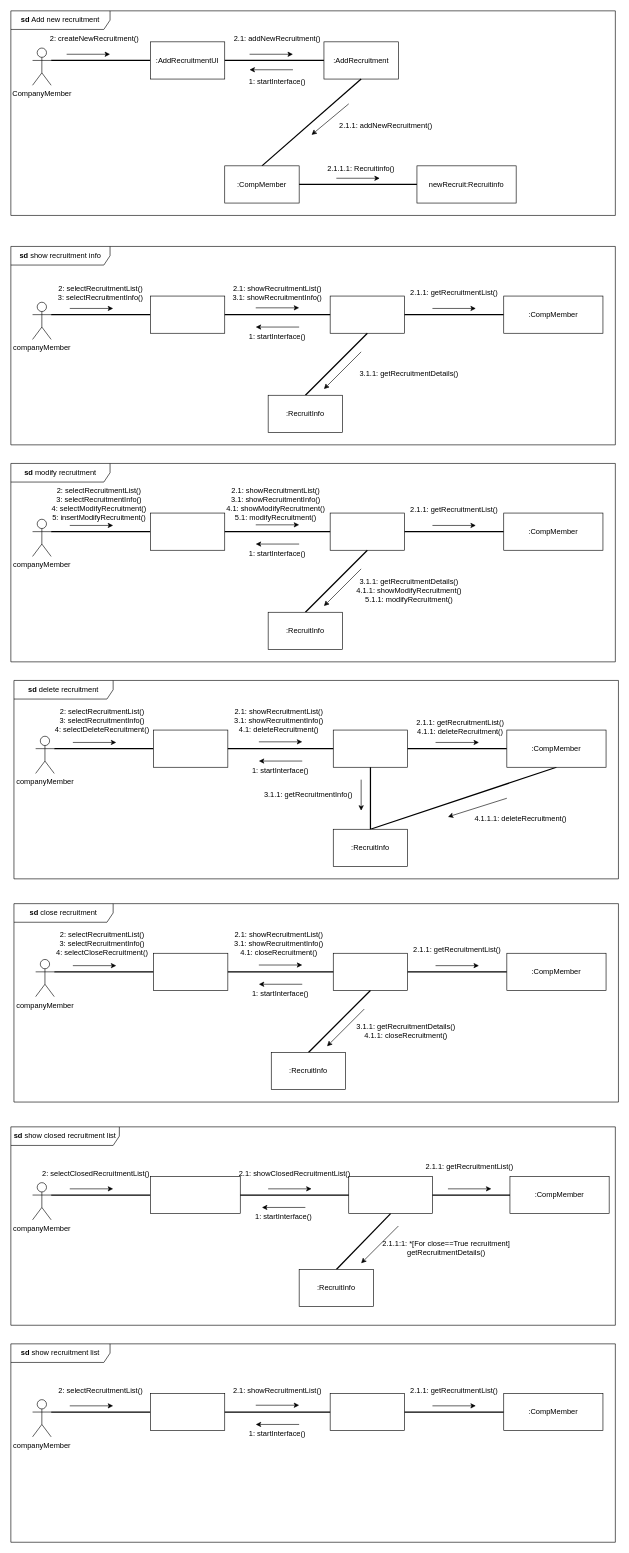
This 629x1553 diagram has some shape labels left out. The centre of each missing label's shape, as x and y in pixels:
":closedRecruitmentList" belongs at pixel 390 1195.
":closedRecruitmentListUI" belongs at pixel 195 1195.
":closeRecruitment" belongs at pixel 370 971.
":closeRecruitmentUI" belongs at pixel 190 971.
":deleteRecruitment" belongs at pixel 370 748.
":deleteRecruitmentUI" belongs at pixel 190 748.
":modifyRecruitment" belongs at pixel 367 531.
":modifyRecruitmentUI" belongs at pixel 187 531.
":recruitmentInfoUI" belongs at pixel 187 314.
":recruitmentlistUI" belongs at pixel 187 1412.
":showRecruitmentInfo" belongs at pixel 367 314.
":showRecruitmentlist" belongs at pixel 367 1412.
